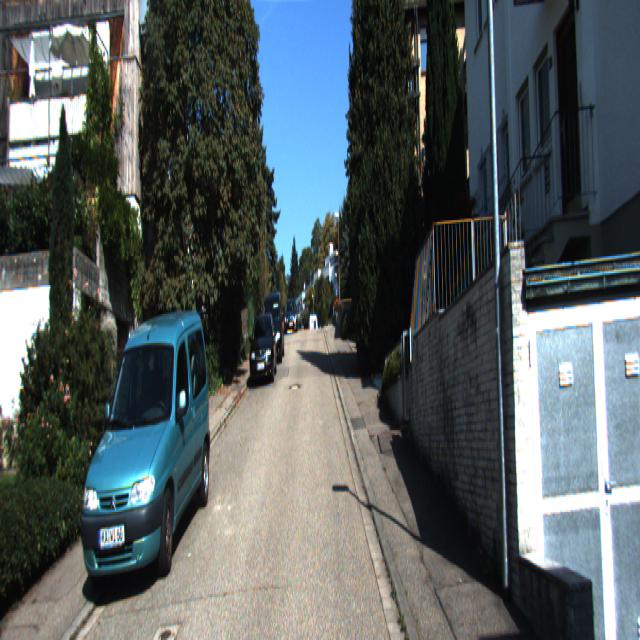Car: (72, 306, 214, 596), (249, 315, 277, 386), (260, 288, 285, 362)
